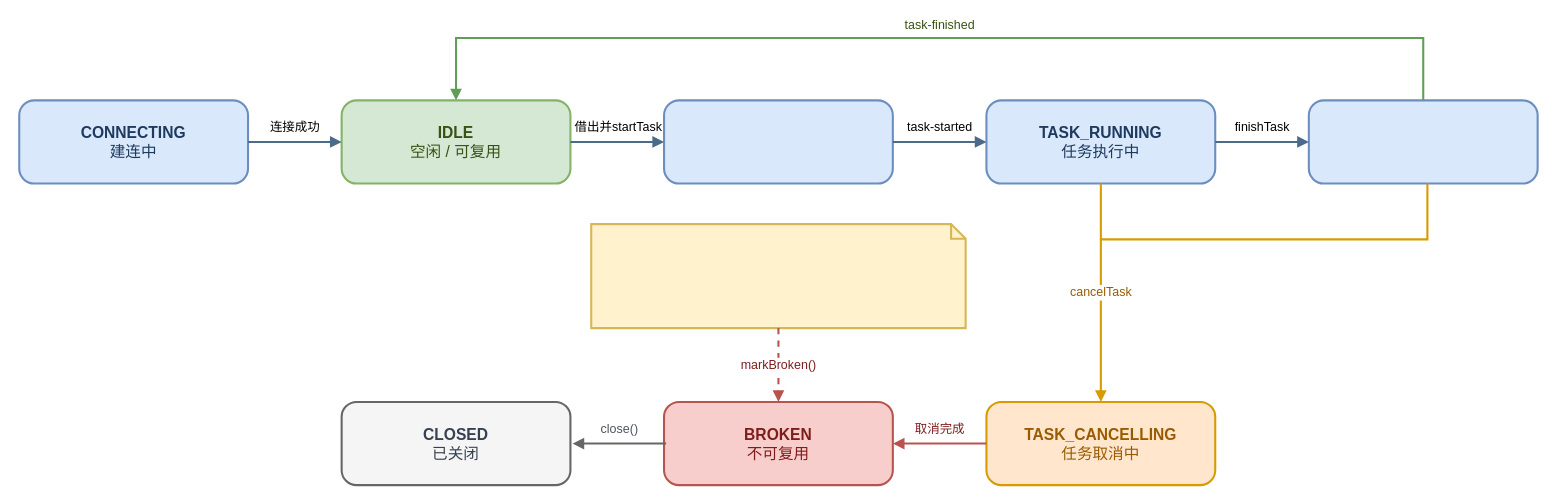
The diagram is 1556 pixels wide and 503 high, and some of its shapes have lost their labels. The shapes that lost their labels are listed below. From the top down, each one's box as (x1, y1, x2, y2) in pixels, then its label:
(662, 99, 893, 184): TASK_STARTING 任务启动中
(1307, 99, 1538, 184): TASK_FINISHING 等待任务终态
(590, 223, 966, 329): 任一状态异常
